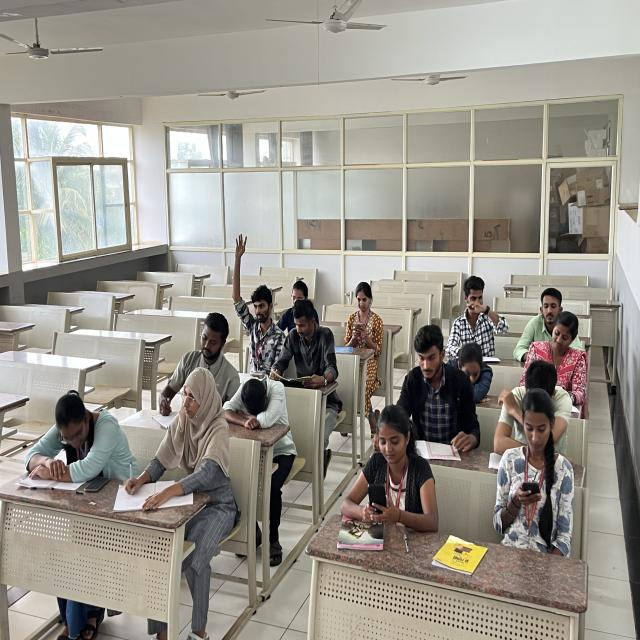Hand Rising: (230, 234, 284, 367)
Reading: (386, 318, 481, 456)
Sleeping: (226, 369, 293, 427), (446, 332, 498, 396)
Using Phone: (339, 409, 438, 536), (487, 396, 577, 525), (337, 283, 388, 348)
Writing: (121, 376, 229, 514), (148, 313, 238, 424)
